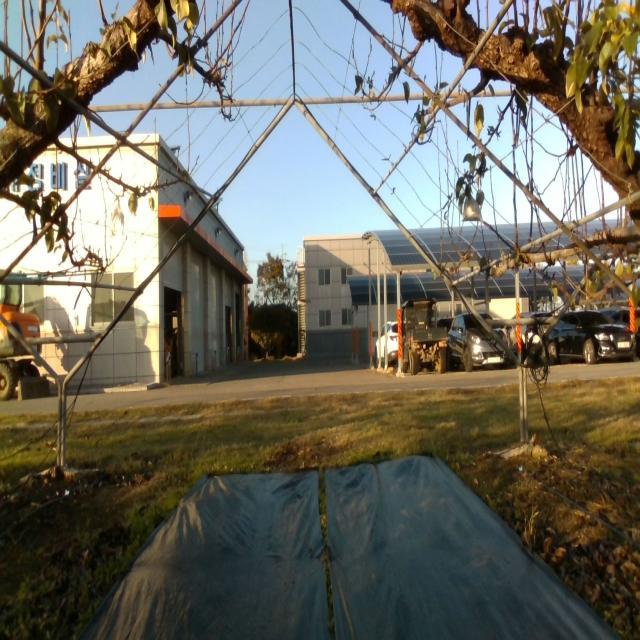pearbags: (461, 196, 484, 224), (110, 206, 124, 239)
